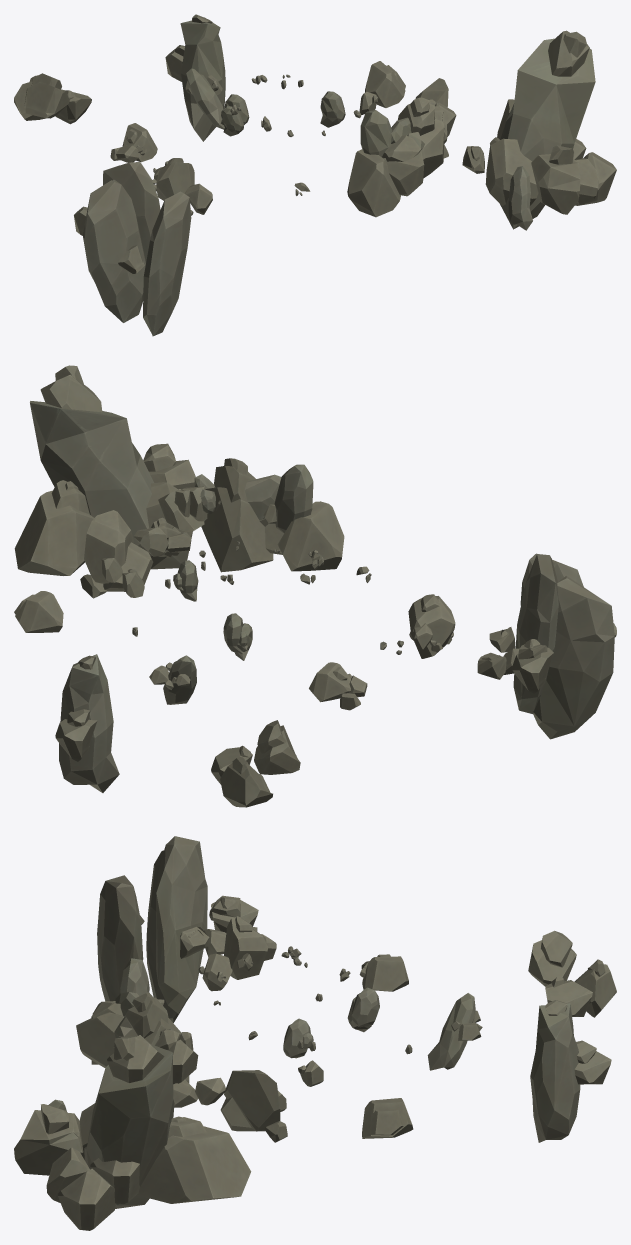
File: Rocas_Isla.glb
3 views of the same model, one above another, from view 1: azimuth 30°, elevation 25°; view 2: azimuth 150°, elevation 25°; view 3: azimuth 270°, elevation 25° (orthographic). The views are drawn at different scales.
Parts seen in each view (by area): view 1: Rocks; view 2: Rocks; view 3: Rocks.
Boxes of the visible parts, x1,y1,x2,y2 form: Rocks: [14, 14, 616, 336]; Rocks: [14, 365, 616, 807]; Rocks: [14, 836, 616, 1230].
Size of the model in its own units: 60.85 by 23.2 by 52.87.
1 material, 1 textured.
